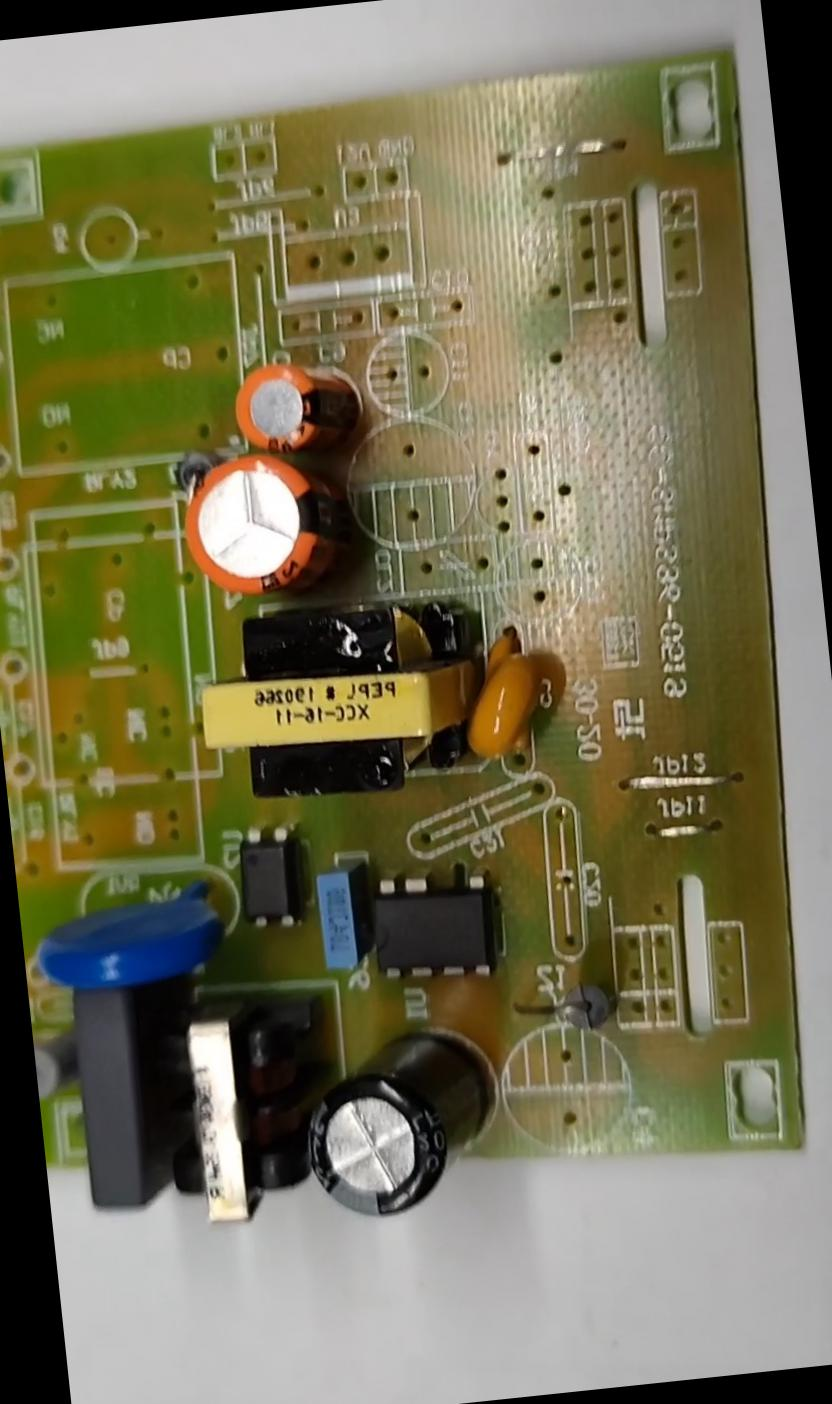Cap1: (180, 446, 327, 598)
Cap2: (231, 358, 360, 455)
Cap3: (294, 1028, 491, 1228)
MOSFET: (370, 870, 498, 986)
Mov: (30, 870, 226, 997)
Resistor: (34, 1030, 74, 1098)
Transformer: (192, 597, 482, 807), (156, 1006, 306, 1222)
